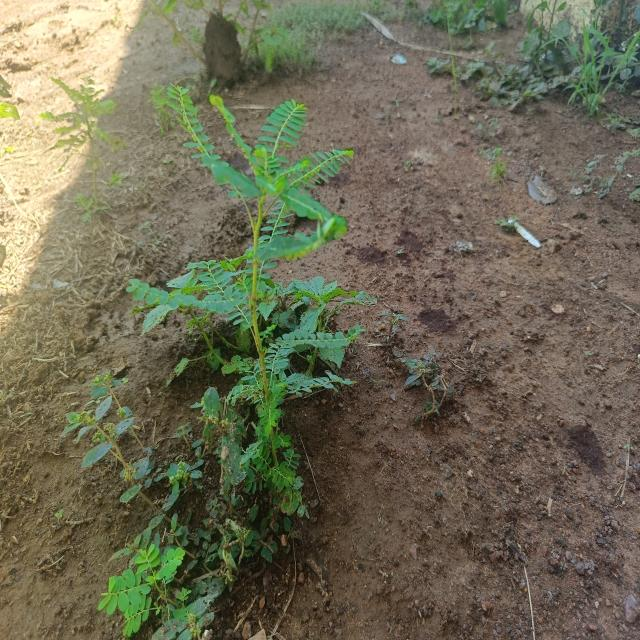weed: (69, 81, 377, 640)
